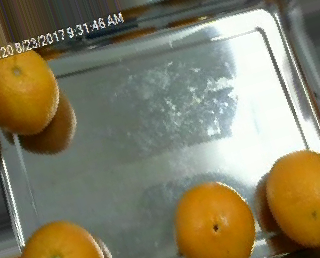Orange: (174, 180, 258, 258), (264, 149, 319, 246)
